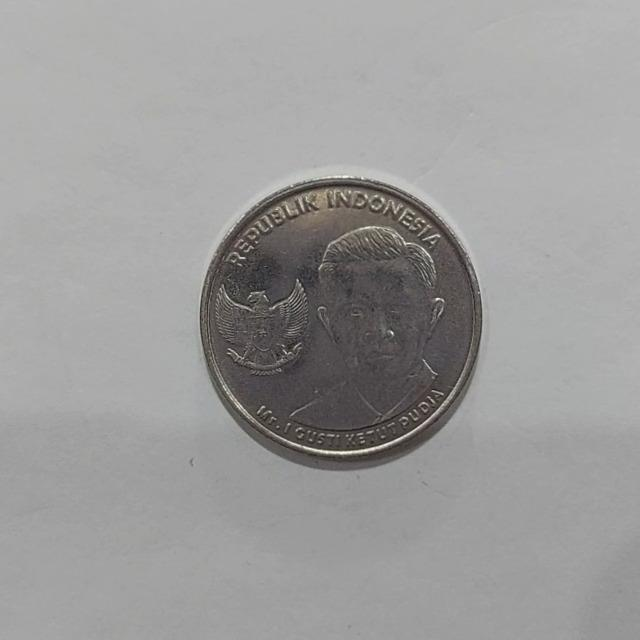Rp100: (198, 171, 484, 467), (284, 222, 448, 432)
